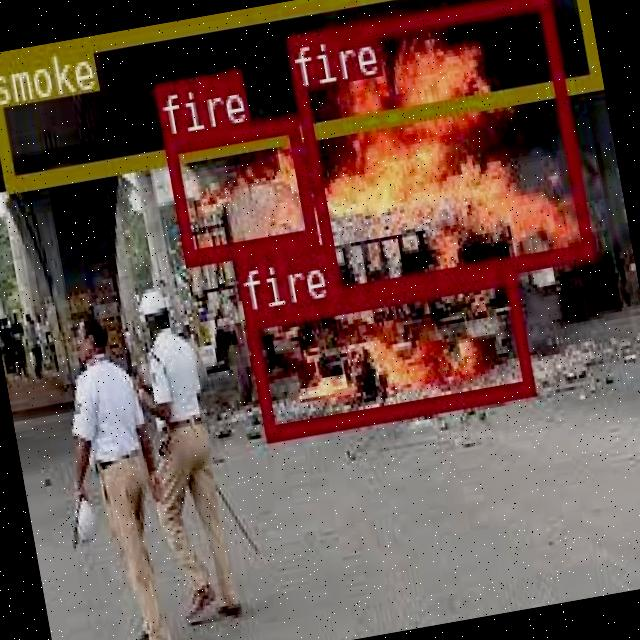fire: (283, 0, 592, 300), (244, 266, 534, 438), (161, 114, 316, 264)
smoke: (0, 0, 598, 188)
